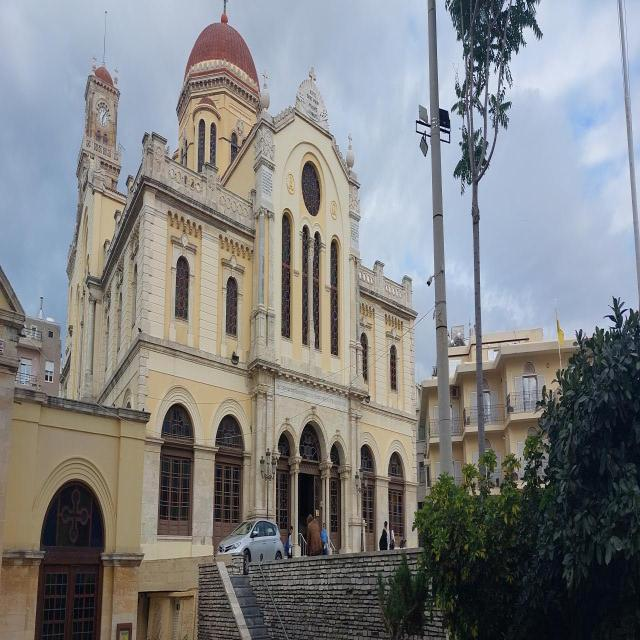Agios Minas: (59, 1, 419, 563)
